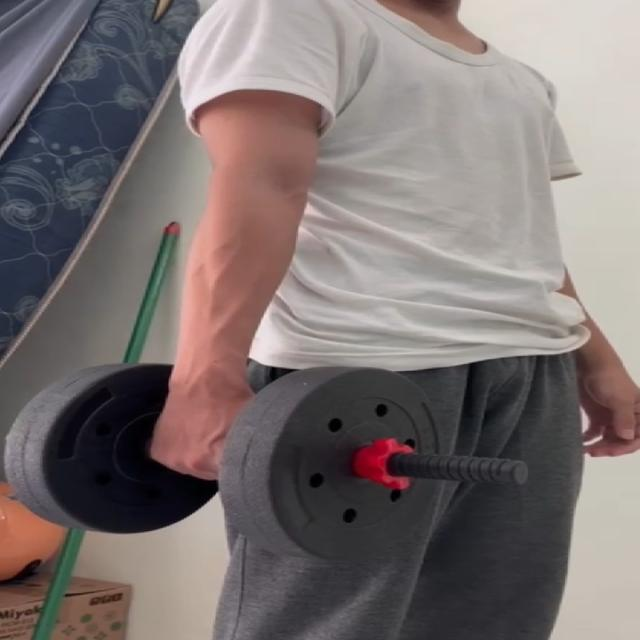hammer: (5, 362, 452, 565)
